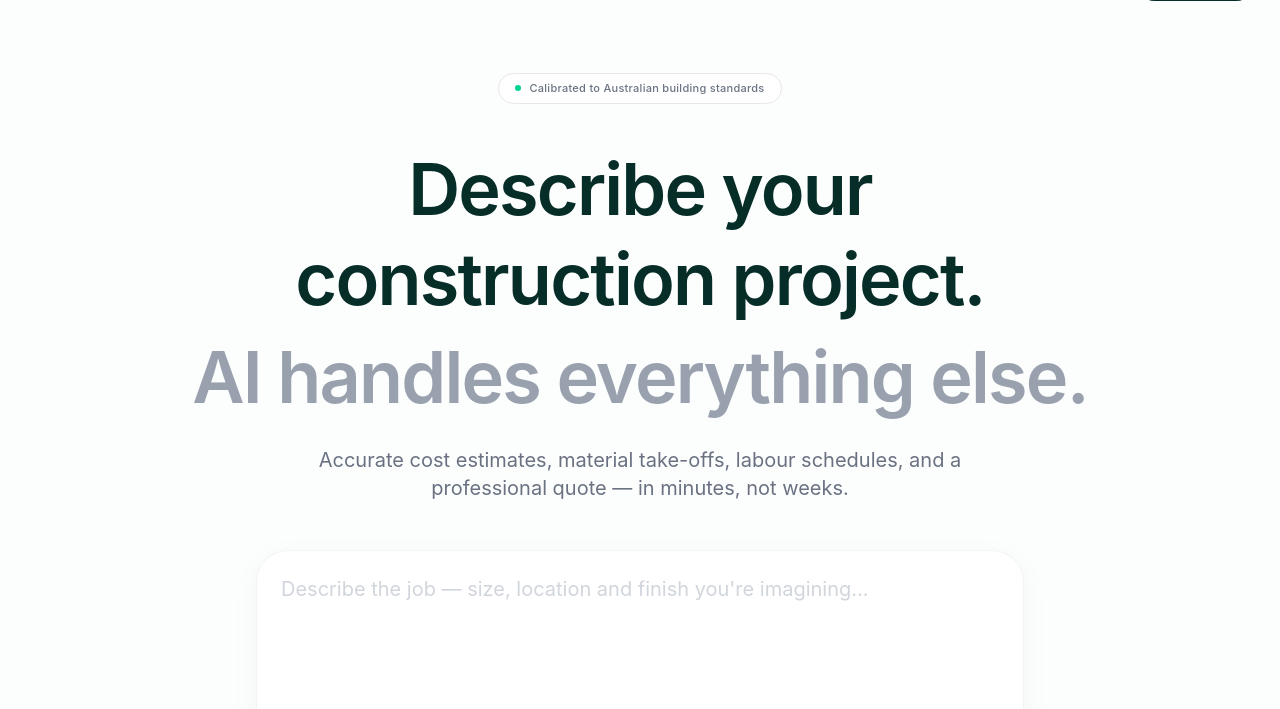
Scenario: Home › draws example photos under the bubble and still shows the question tiles
Type "Colorbond fence, Berwick, 20m" into the text box named "describe your construction project" at (640, 634), box [281,574,999,694]
(page scrolled)
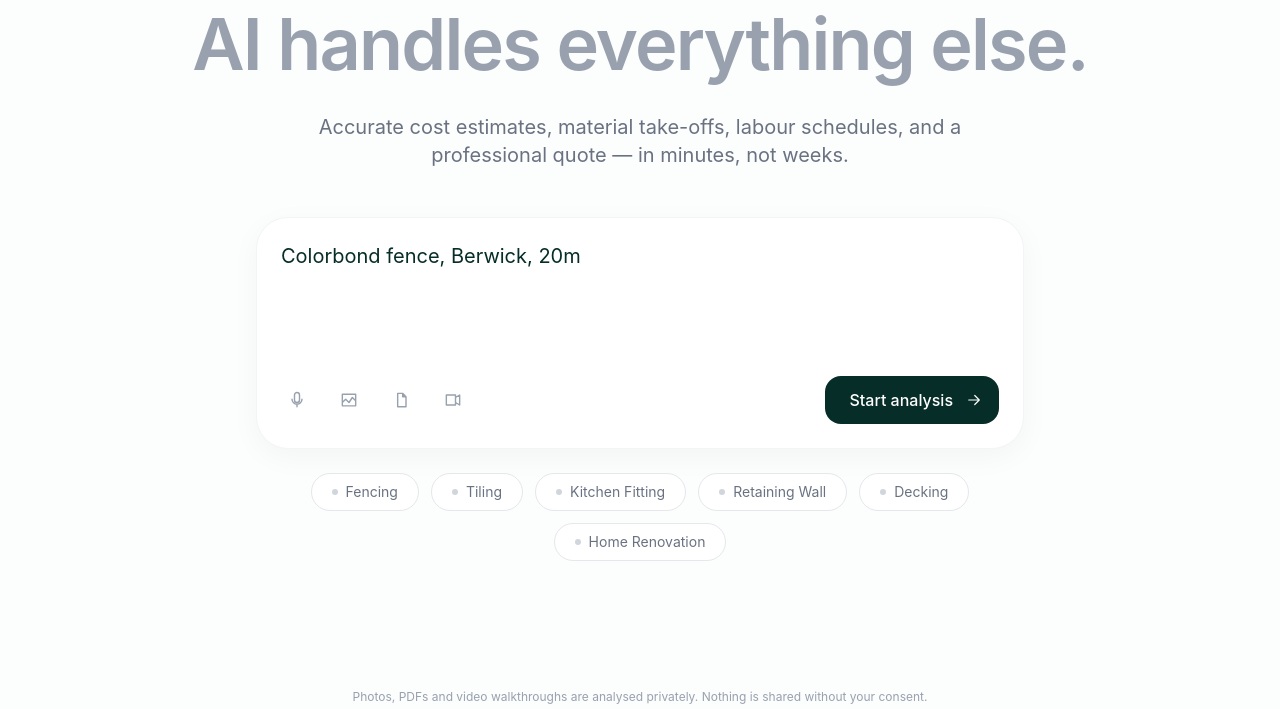
Click the button "Start analysis" at (912, 400), box [826,376,999,424]
(page scrolled)
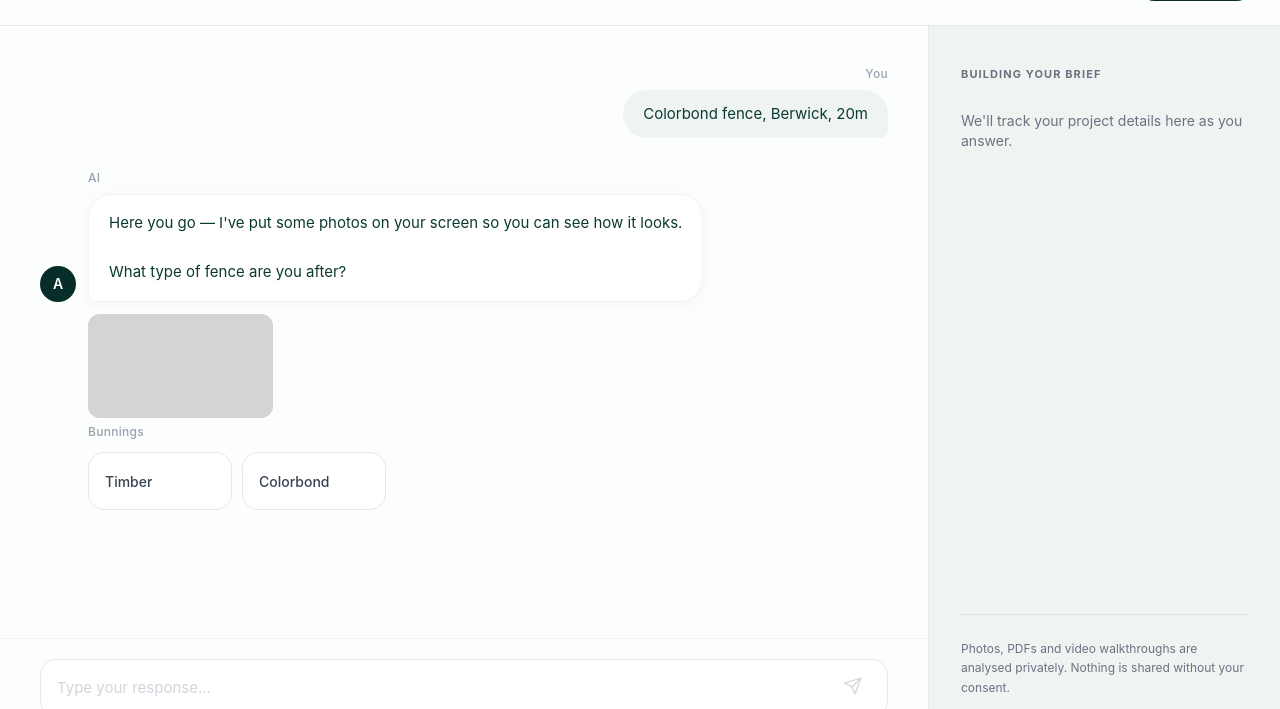
Now the button "Colorbond" is shown, box [242,452,386,510]
